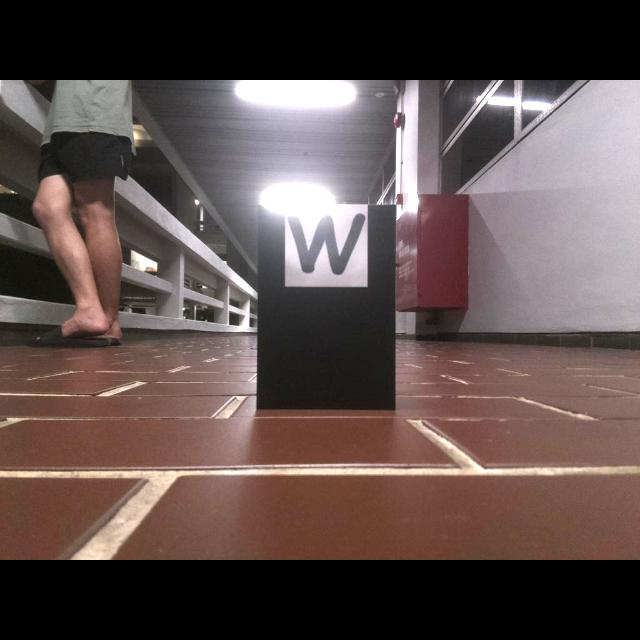W: (286, 211, 366, 276)
